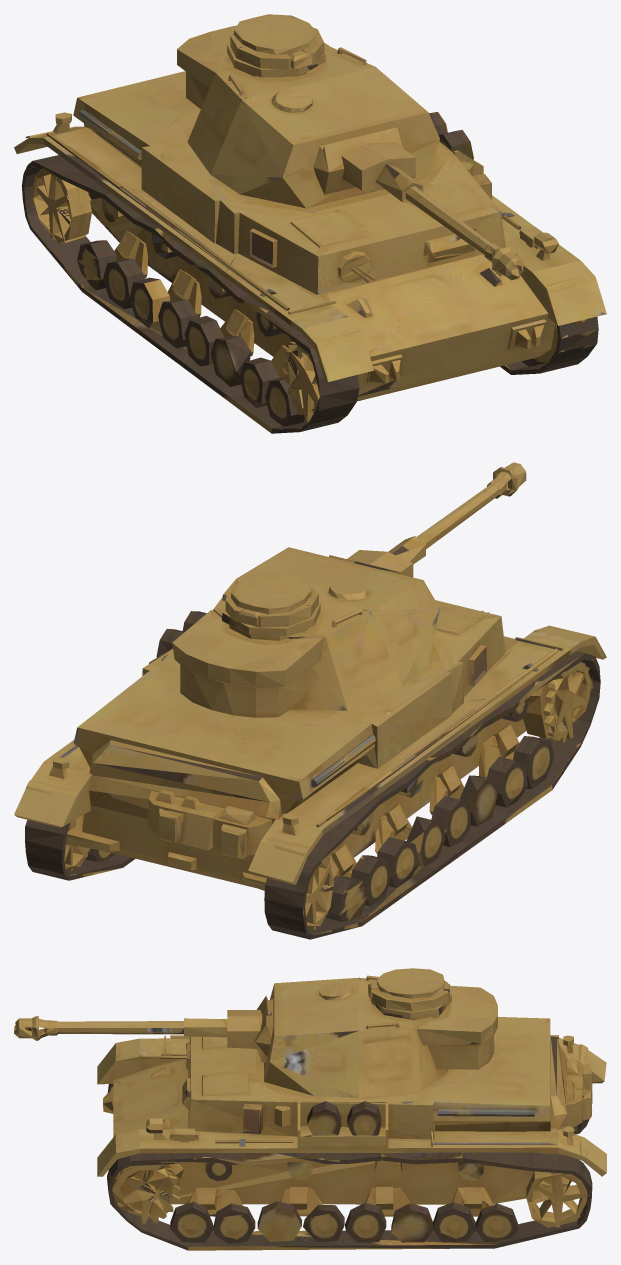
The model's file is sicily_german_mech_0.glb.
The picture shows the model from 3 angles, top to bottom: view 1: azimuth 30°, elevation 25°; view 2: azimuth 150°, elevation 25°; view 3: azimuth 270°, elevation 25°; orthographic projection. The views are drawn at different scales.
Visible parts, largest first — view 1: geometry_0; view 2: geometry_0; view 3: geometry_0.
Part boxes in pixels (left/top/right/bottom): geometry_0: left=14, top=14, right=606, bottom=433; geometry_0: left=14, top=462, right=606, bottom=939; geometry_0: left=14, top=968, right=606, bottom=1250.
Bounding box in the file's own units: 0.5308 × 0.4824 × 1.2.
Materials: 1 (1 with a texture image).
